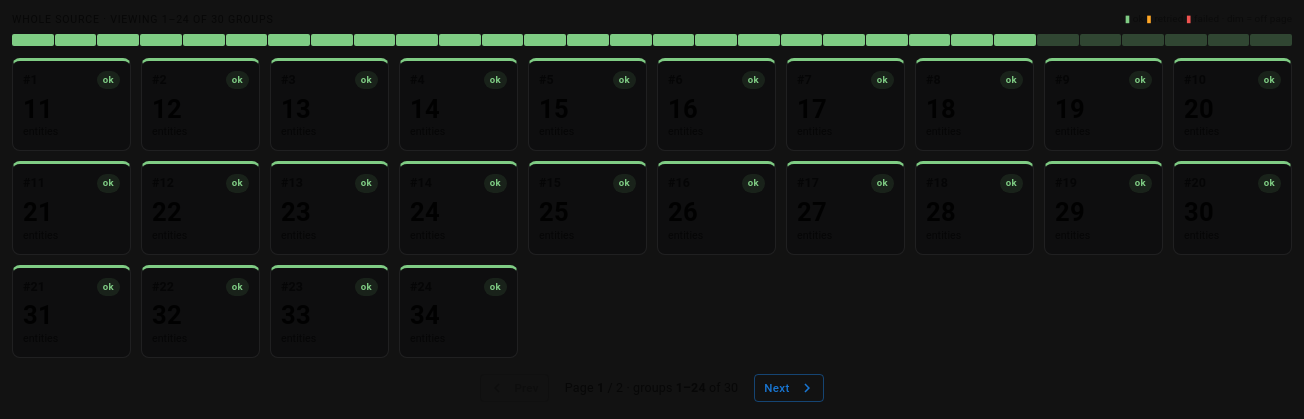
Test: ChunkGrid › windows large sources: shows the rail, a 24-tile page, and pages forward
This screenshot has width=1304, height=419.
Expected: the element with test id "chunk-status-rail" is shown, [12,34,1292,46]
Expected: the button with test id "chunk-cell-c1" is shown, [12,58,131,151]
Note: Page 2 shows the remaining 6.
Click the button "Next": (789, 388) [754,374,824,402]
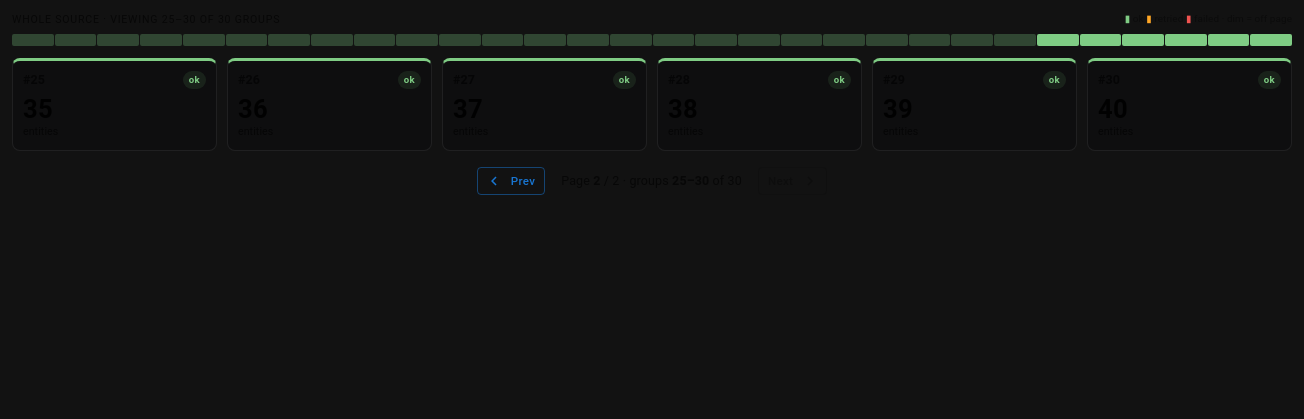
Expected: the button with test id "chunk-cell-c25" is shown, [12,58,217,151]
Expected: the button with test id "chunk-cell-c1" is gone
